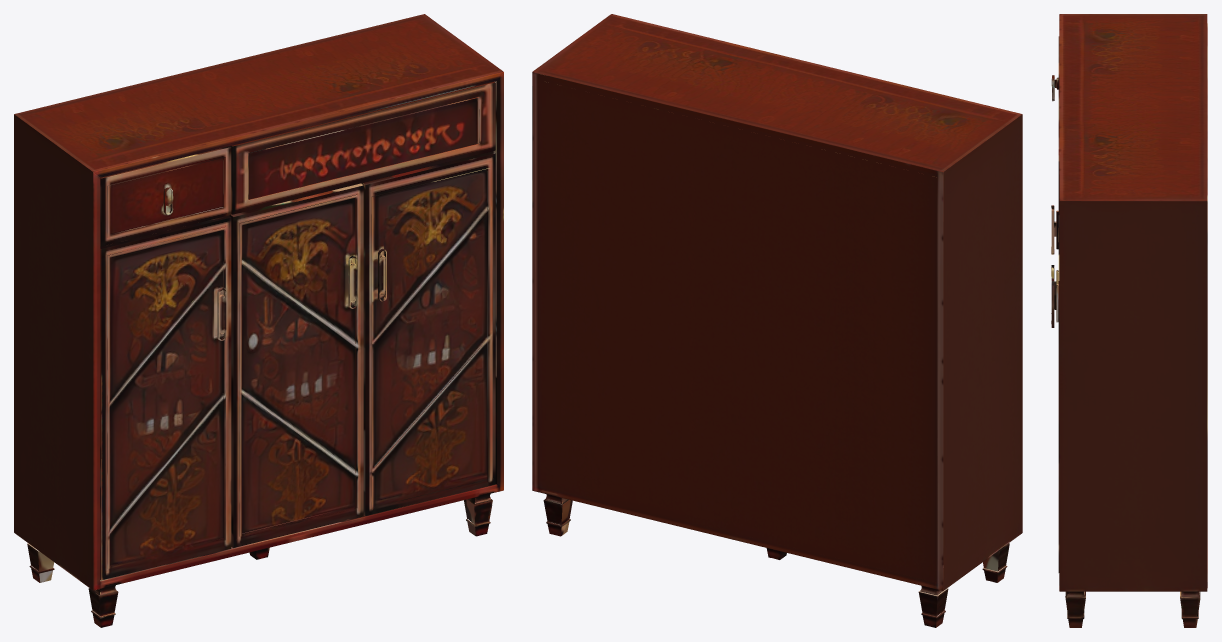
File: edited_mesh.glb
3 views of the same model, side by side, from view 1: azimuth 30°, elevation 25°; view 2: azimuth 150°, elevation 25°; view 3: azimuth 270°, elevation 25° (orthographic). The views are drawn at different scales.
Parts seen in each view (by area): view 1: solid_001_wire; view 2: solid_001_wire; view 3: solid_001_wire.
Part boxes in pixels (x1,y1,x2,y2): solid_001_wire: (14, 14, 503, 627); solid_001_wire: (532, 14, 1022, 627); solid_001_wire: (1051, 14, 1207, 627).
Size of the model in its own units: 1.27 by 1.37 by 0.4471.
Materials: 1 (1 with a texture image).
